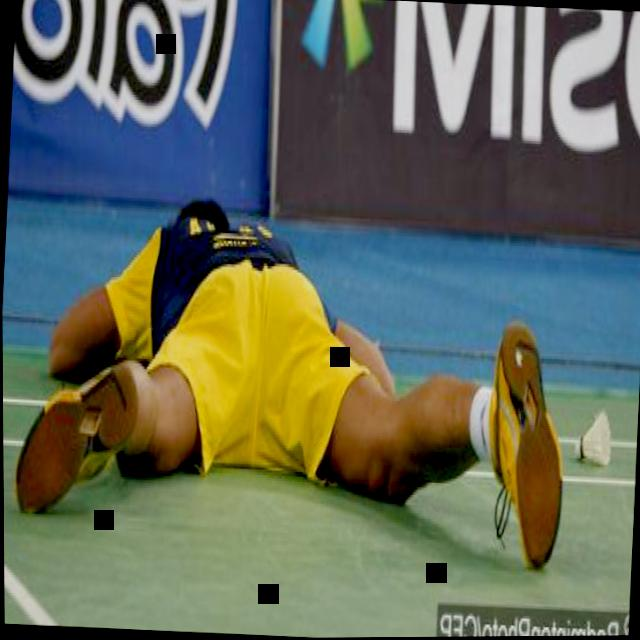Fall-Detected: (3, 113, 590, 578)
